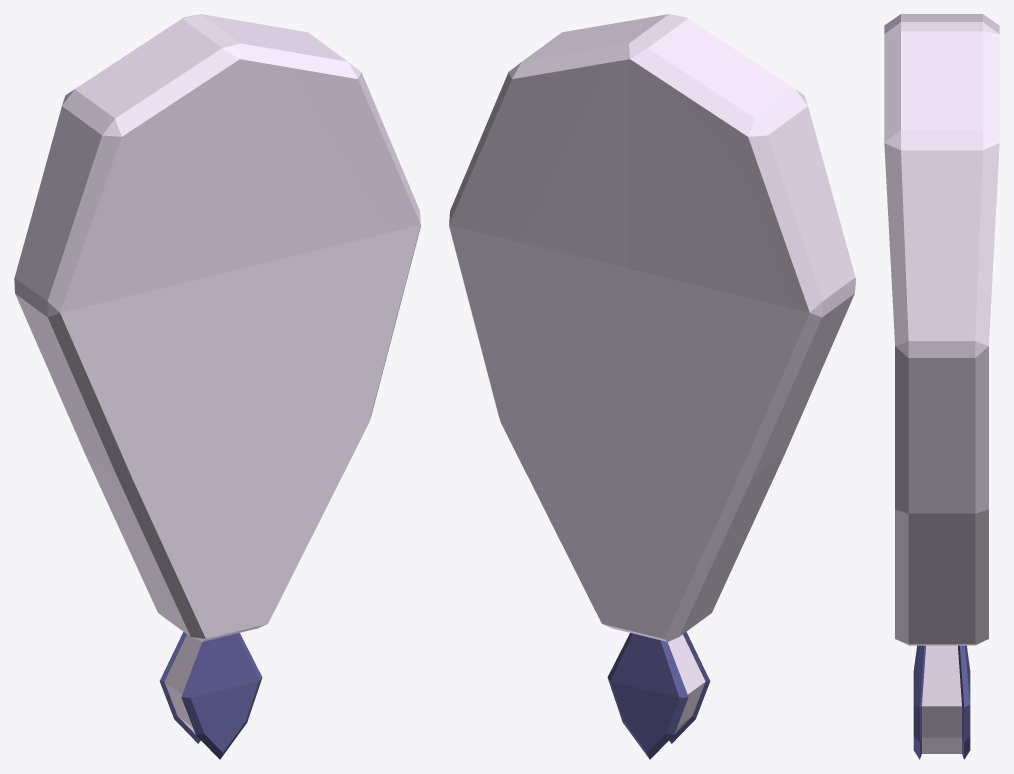
File: CorrectionTape.fbx
The picture shows the model from 3 angles, left to right: view 1: azimuth 30°, elevation 25°; view 2: azimuth 150°, elevation 25°; view 3: azimuth 270°, elevation 25°; orthographic projection.
Visible parts, largest first — view 1: Plane.001; view 2: Plane.001; view 3: Plane.001.
Boxes of the visible parts, <box> form: Plane.001: <box>14,14,420,759</box>; Plane.001: <box>449,14,855,759</box>; Plane.001: <box>884,14,999,759</box>.
Size of the model in its own units: 11.53 by 21.26 by 3.03.
